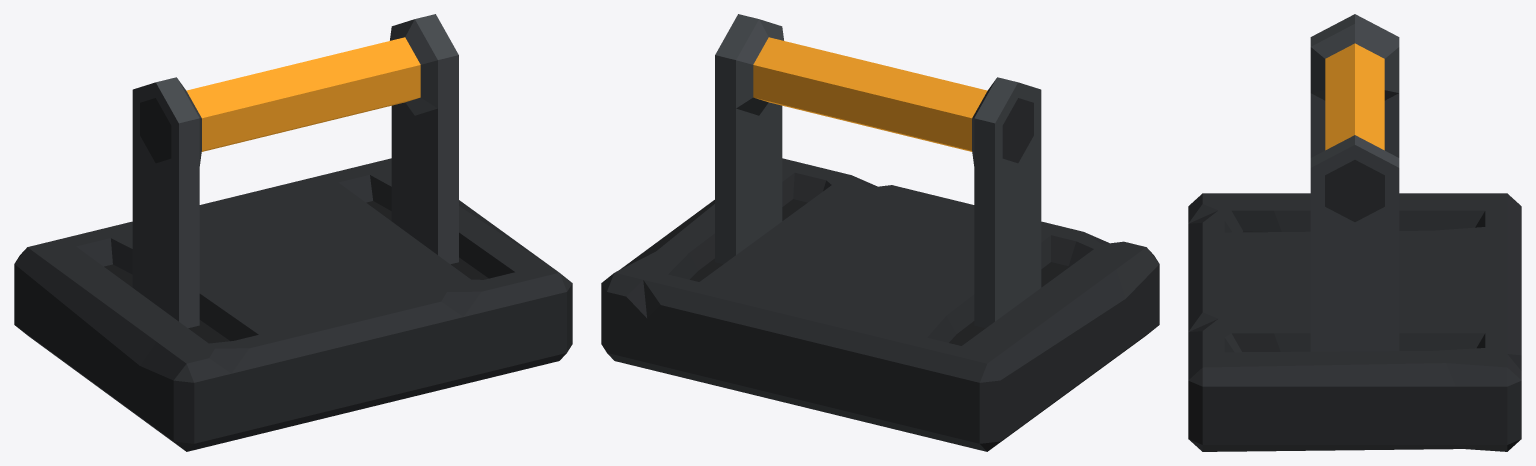
File: SM_Switch_Lever_02.fbx
3 renders of one model, left to right at view 1: azimuth 30°, elevation 25°; view 2: azimuth 150°, elevation 25°; view 3: azimuth 270°, elevation 25°, orthographic. The views are drawn at different scales.
Parts seen in each view (by area): view 1: SM_Switch_Lever_02, SM_Switch_Lever_Stick_02; view 2: SM_Switch_Lever_02, SM_Switch_Lever_Stick_02; view 3: SM_Switch_Lever_02, SM_Switch_Lever_Stick_02.
Part boxes in pixels (<box>): SM_Switch_Lever_02: <box>14,158,572,451</box>; SM_Switch_Lever_Stick_02: <box>132,14,458,328</box>; SM_Switch_Lever_02: <box>601,158,1159,451</box>; SM_Switch_Lever_Stick_02: <box>715,14,1041,328</box>; SM_Switch_Lever_02: <box>1188,193,1521,451</box>; SM_Switch_Lever_Stick_02: <box>1310,14,1399,351</box>.
Bounding box in the file's own units: 30.69 × 22.01 × 23.22.
